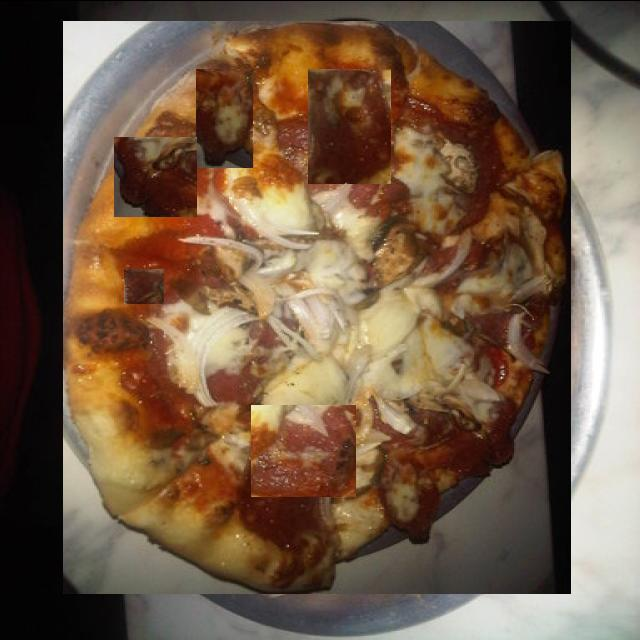pepperoni: (252, 404, 358, 496), (308, 68, 391, 183), (114, 136, 197, 216), (196, 68, 253, 167), (367, 198, 427, 254), (124, 268, 164, 303)
pizza: (63, 20, 571, 593)
